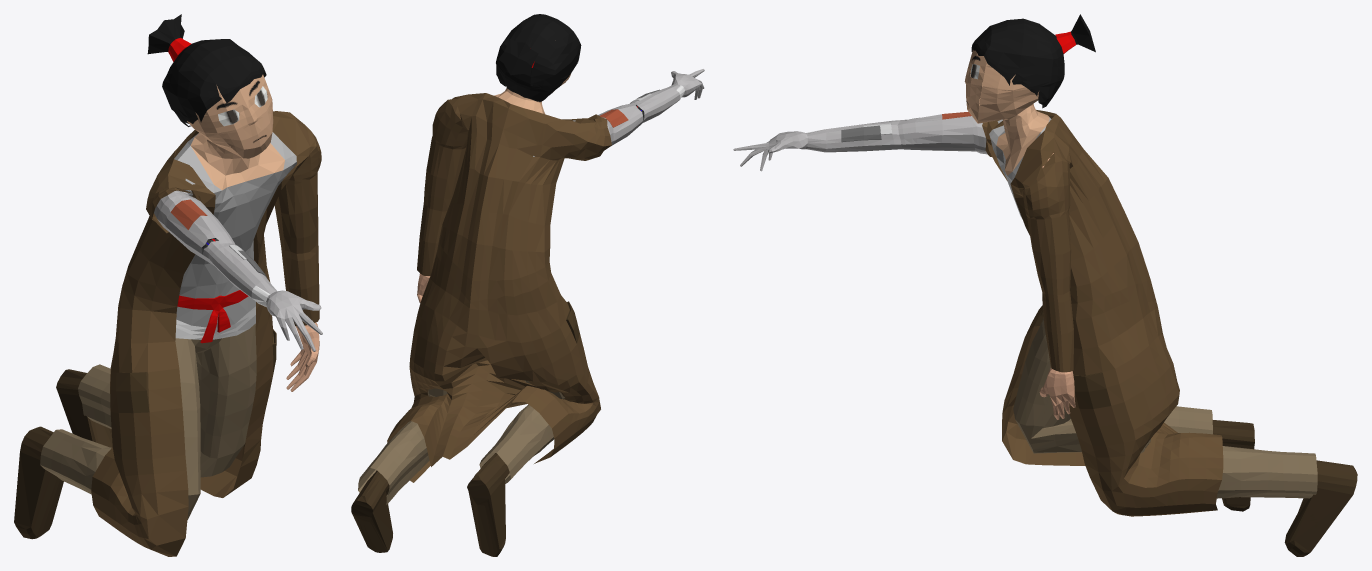
File: One_Die_000038.obj
3 views of the same model, side by side, from view 1: azimuth 30°, elevation 25°; view 2: azimuth 150°, elevation 25°; view 3: azimuth 270°, elevation 25° (orthographic). The views are drawn at different scales.
Visible parts, largest first — view 1: Hair_Cube.004; view 2: Hair_Cube.004; view 3: Hair_Cube.004.
Boxes of the visible parts, bbox=[...] form: Hair_Cube.004: bbox=[14, 14, 322, 556]; Hair_Cube.004: bbox=[351, 14, 704, 556]; Hair_Cube.004: bbox=[733, 14, 1357, 556].
Size of the model in its own units: 1.13 by 3.01 by 3.29.
